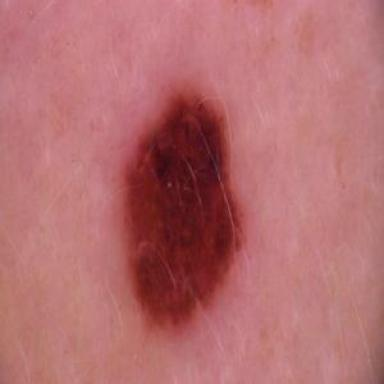Melanoma: (126, 89, 244, 325)
